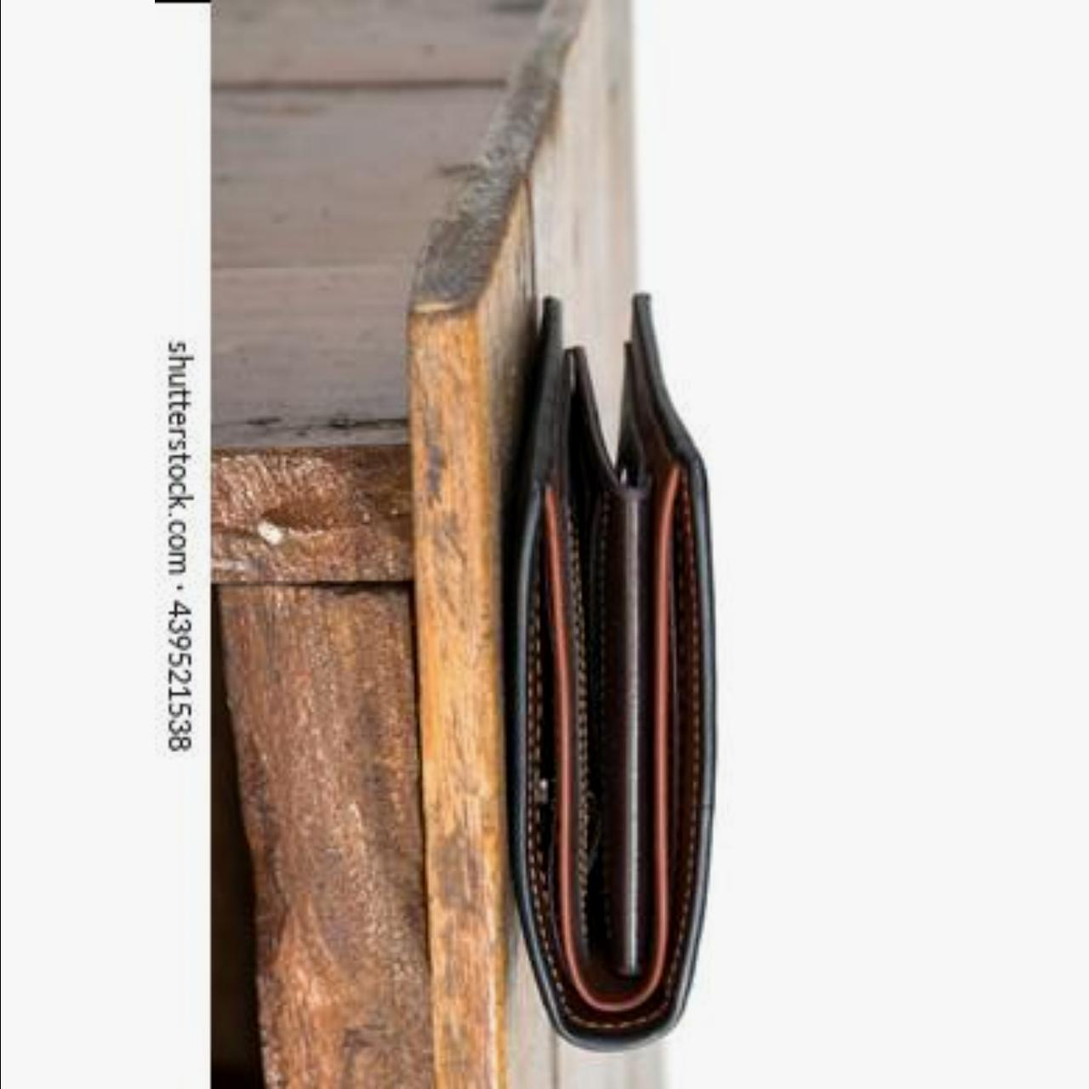wallet: (498, 274, 766, 1089)
